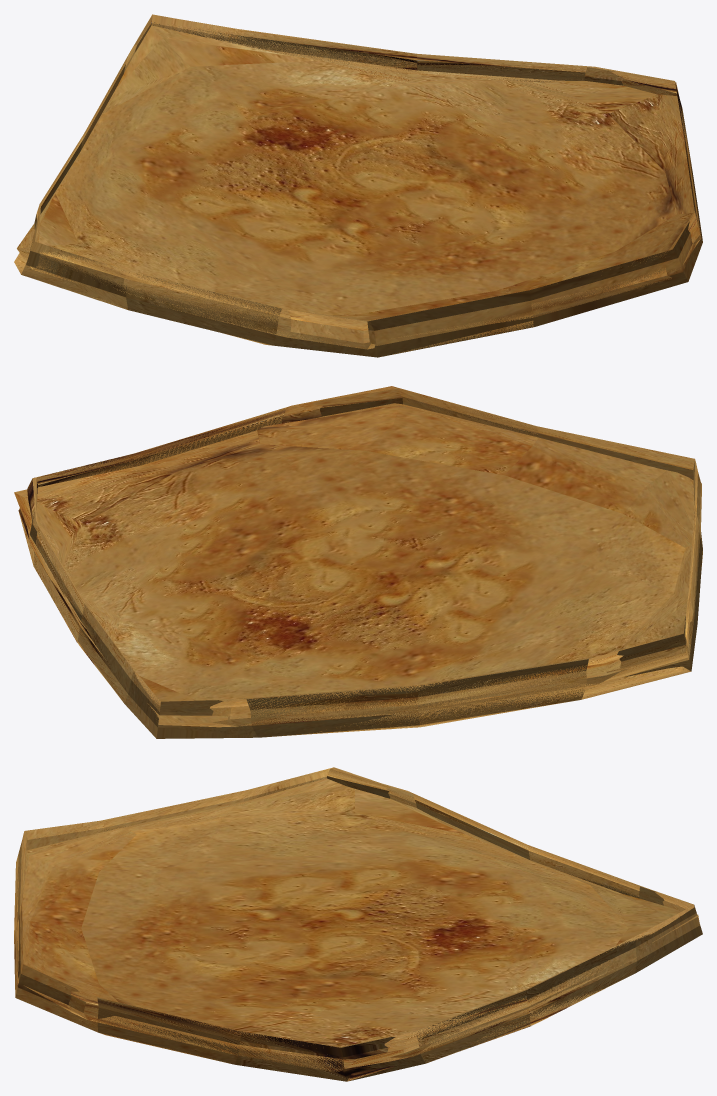
Rendered from sugarpoly6.gltf.
3 views of the same model, one above another, from view 1: azimuth 30°, elevation 25°; view 2: azimuth 150°, elevation 25°; view 3: azimuth 270°, elevation 25° (orthographic). The views are drawn at different scales.
Parts seen in each view (by area): view 1: 평면; view 2: 평면; view 3: 평면.
Part boxes in pixels (box(x1,y1,x2,y2)): 평면: box(14, 14, 702, 357); 평면: box(14, 386, 702, 738); 평면: box(14, 767, 702, 1081).
Size of the model in its own units: 1.24 by 0.1016 by 1.24.
1 material, 1 textured.
